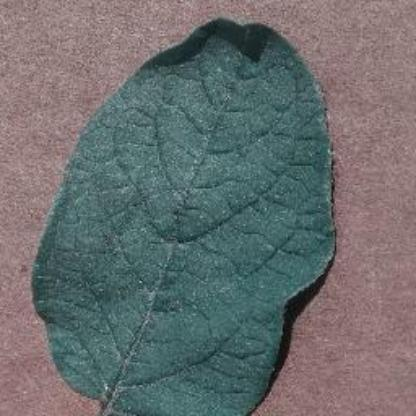Healthy-plant: (28, 17, 336, 416)
